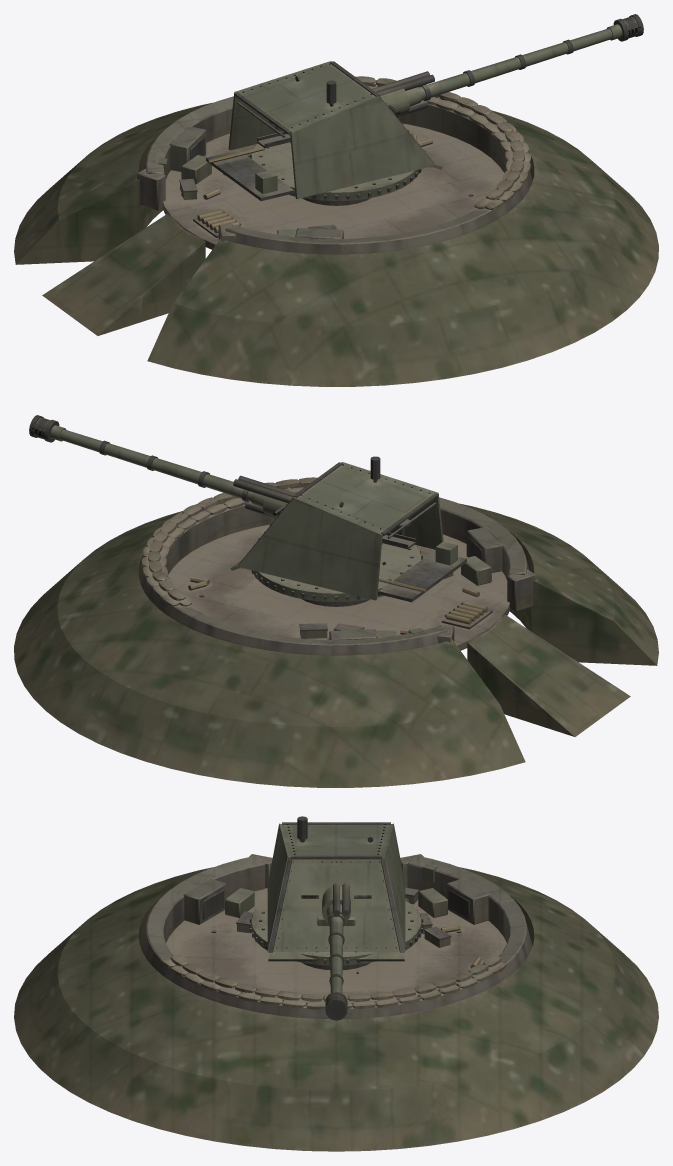
File: fh_battle_e_coast_gun.glb
3 views of the same model, one above another, from view 1: azimuth 30°, elevation 25°; view 2: azimuth 150°, elevation 25°; view 3: azimuth 270°, elevation 25° (orthographic).
Visible parts, largest first — view 1: body, turret, barrel; view 2: body, turret, barrel; view 3: body, turret, barrel.
Boxes of the visible parts, x1,y1,x2,y2 form: body: [14, 76, 658, 386]; turret: [206, 61, 442, 205]; barrel: [372, 14, 643, 116]; body: [14, 477, 658, 787]; turret: [230, 456, 466, 606]; barrel: [29, 415, 295, 517]; body: [14, 854, 658, 1151]; turret: [249, 816, 423, 969]; barrel: [318, 880, 354, 1020].
Size of the model in its own units: 1.61 by 0.502 by 1.58.
Materials: 1 (1 with a texture image).
